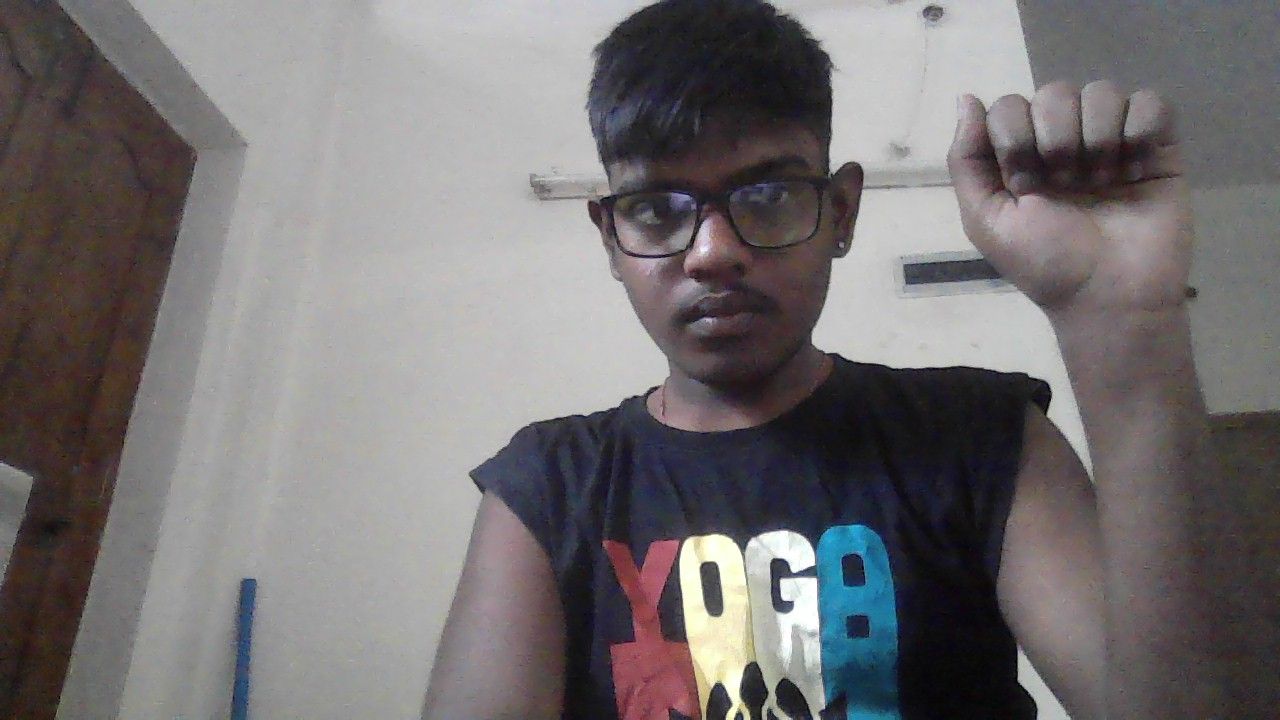A: (947, 81, 1195, 323)
